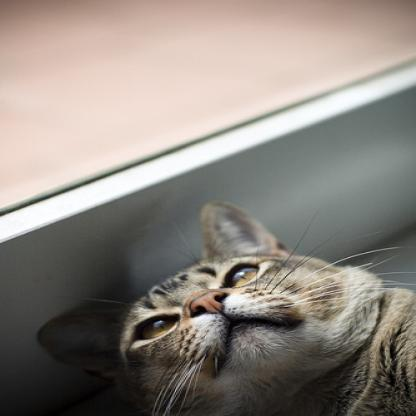cat: (36, 201, 415, 415)
